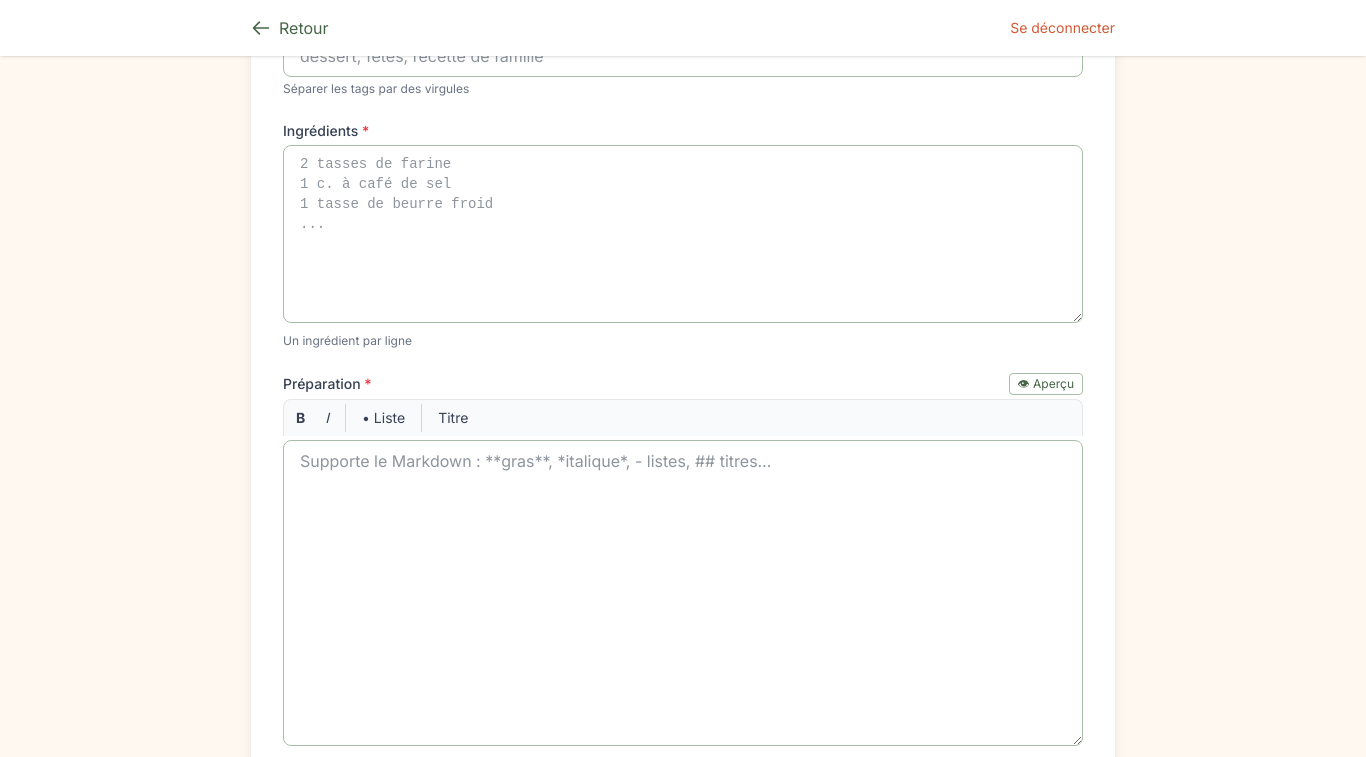
Scenario: Admin — barre d'outils Markdown › revient en édition au clic sur Éditer
The image size is (1366, 757).
(page scrolled)
// Aller en aperçu
Click the button "👁 Aperçu" at (1046, 384), box [1009,373,1083,395]
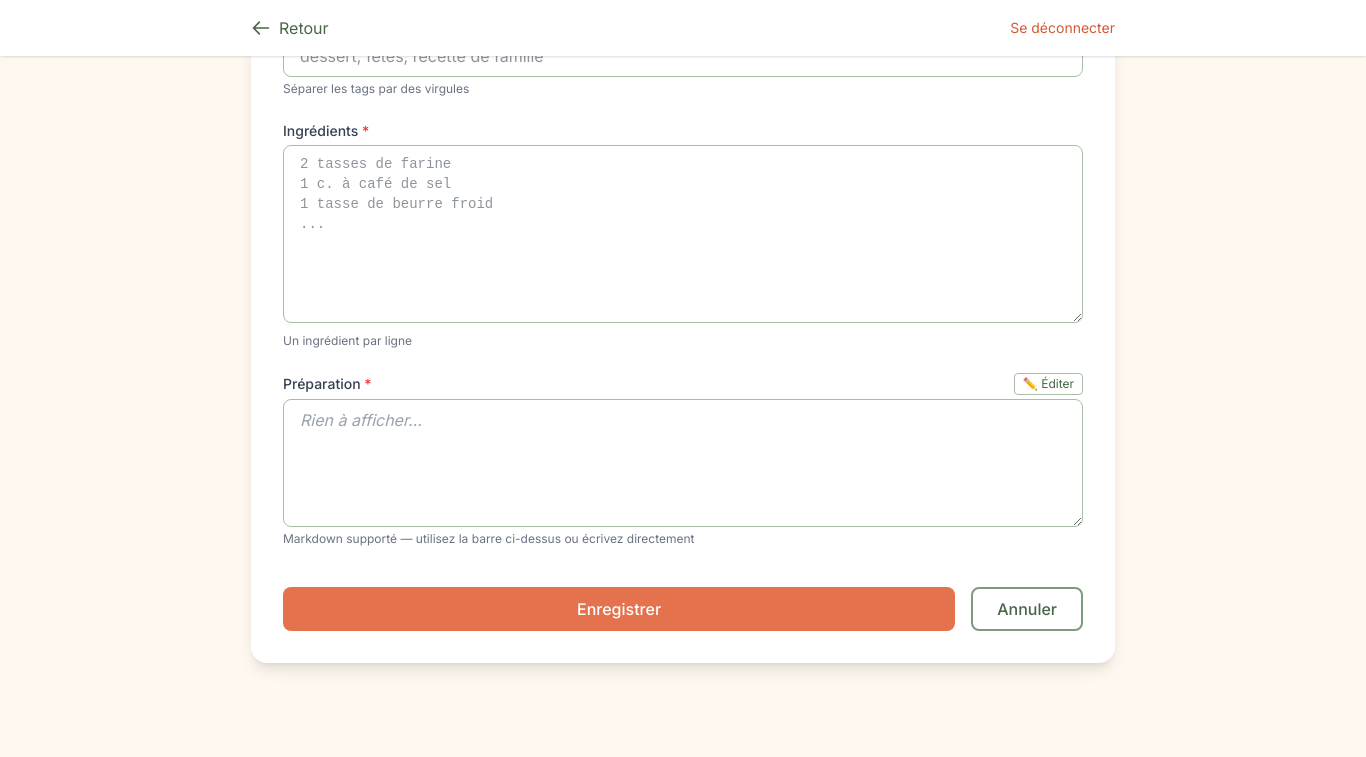
// Revenir en édition
Click the button "✏️ Éditer" at (1048, 384), box [1014,373,1083,395]
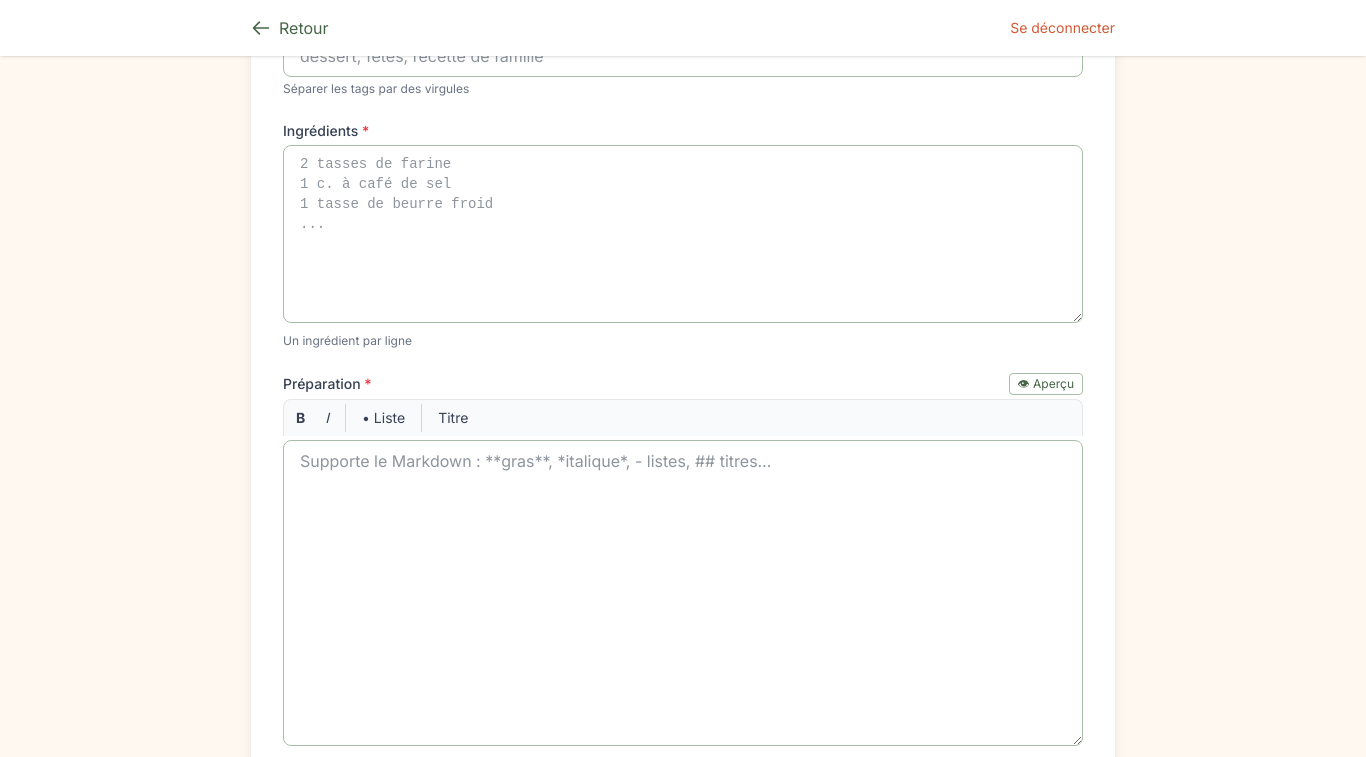
expect the button titled "Gras" is shown: met, box [288,404,313,432]
